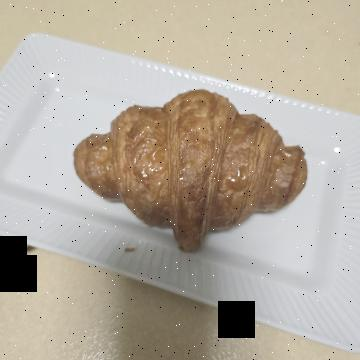croissant: (85, 45, 276, 302)
